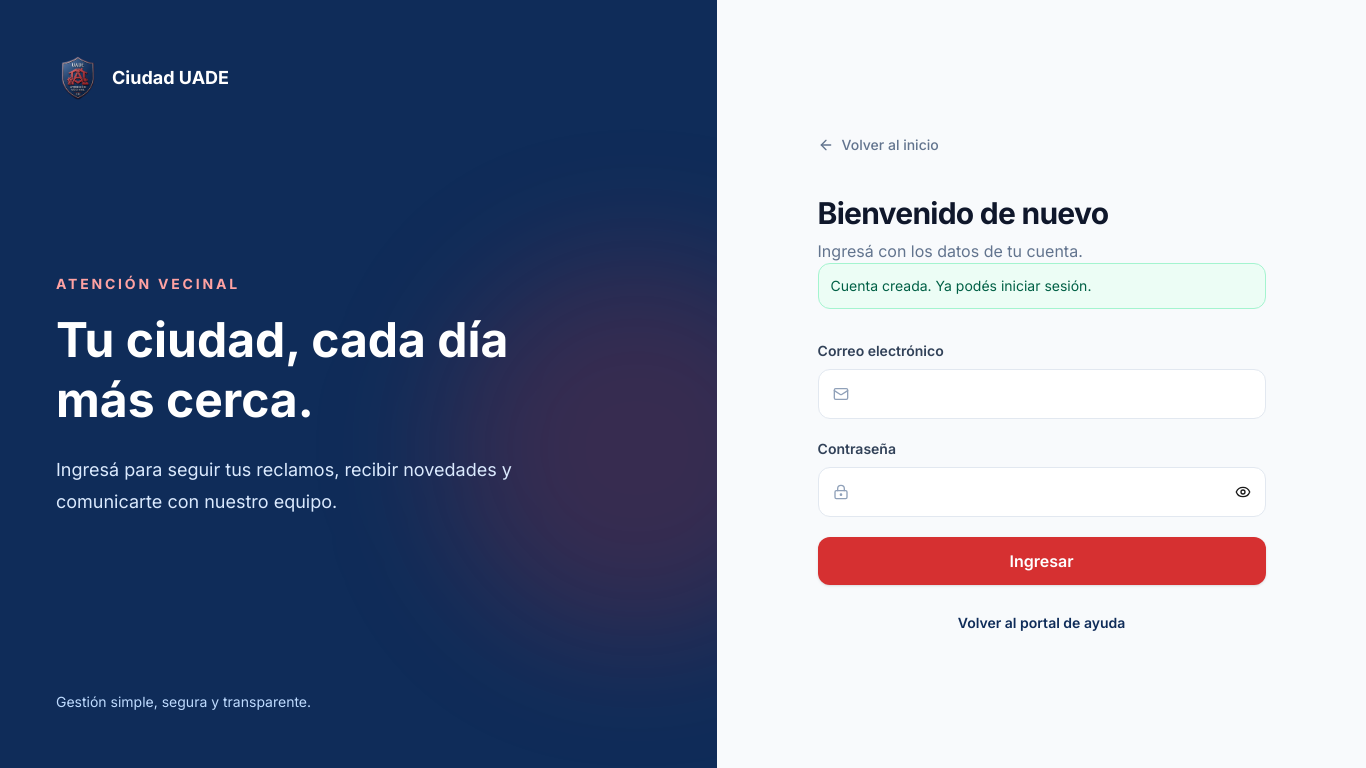
Test: LoginPage › vuelve a la ruta protegida original y muestra el mensaje recibido
Expected: the text "Cuenta creada. Ya podés iniciar sesión." is shown, [818,263,1266,309]
Type "a@b.c" into the field labelled "Correo electrónico" at (1056, 394), box [861,370,1251,418]
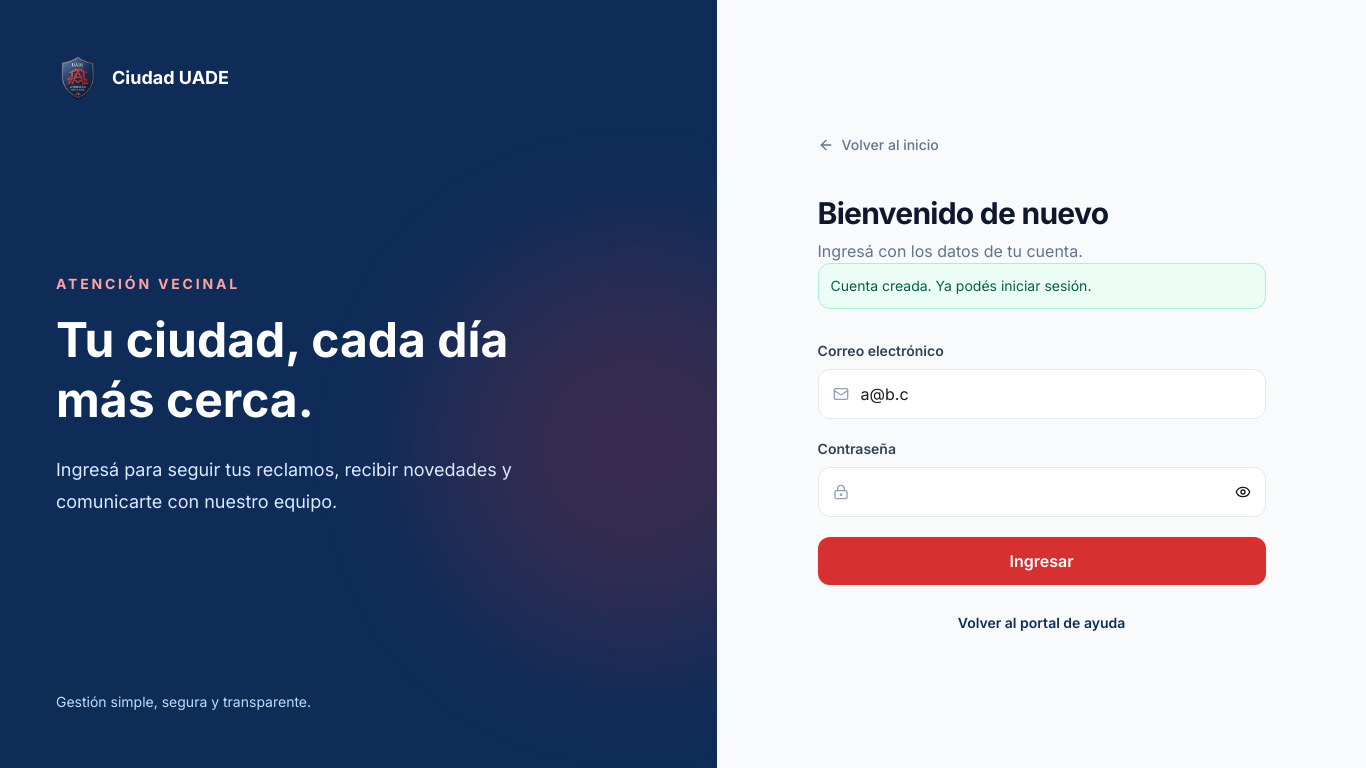
Type "secreta" into the password field labelled "Contraseña" at (1042, 492), box [861,468,1223,516]
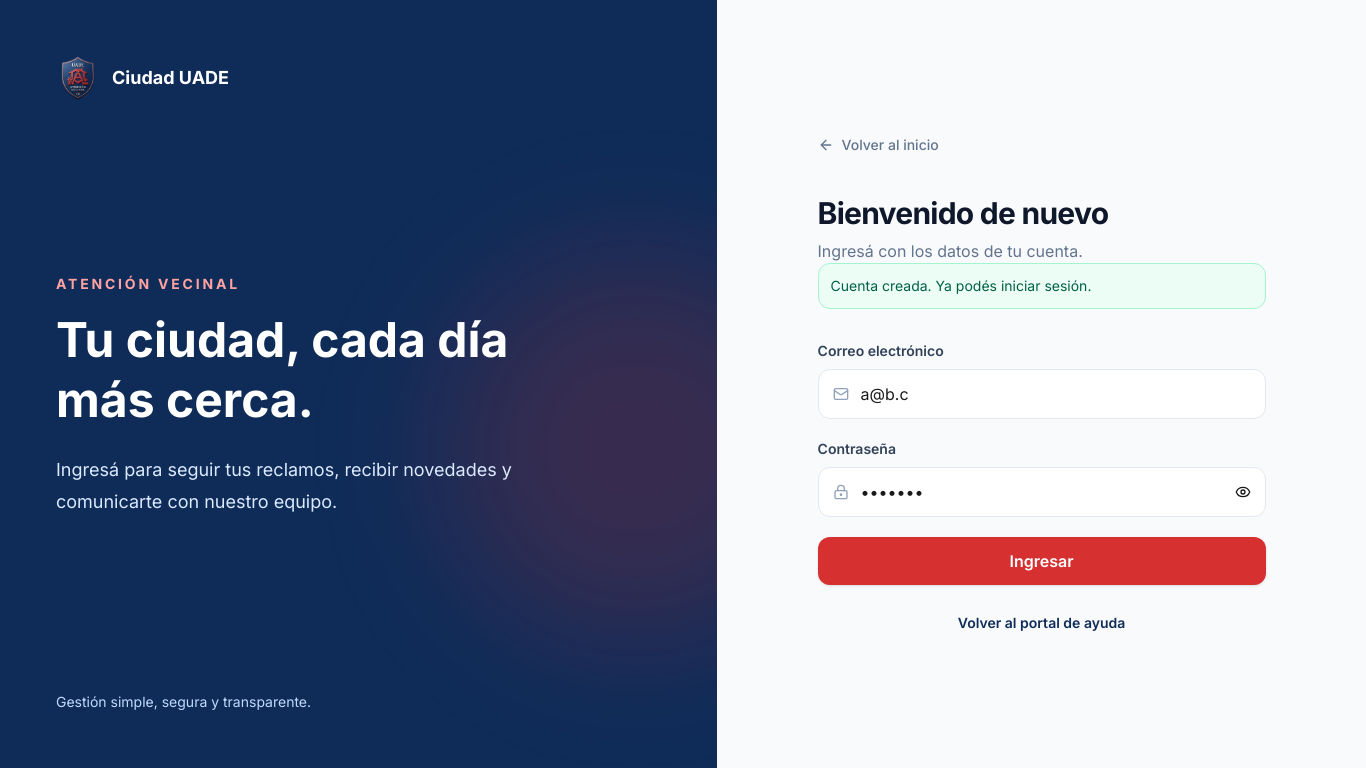
Click the button "Ingresar" at (1042, 561), box [818,537,1266,585]
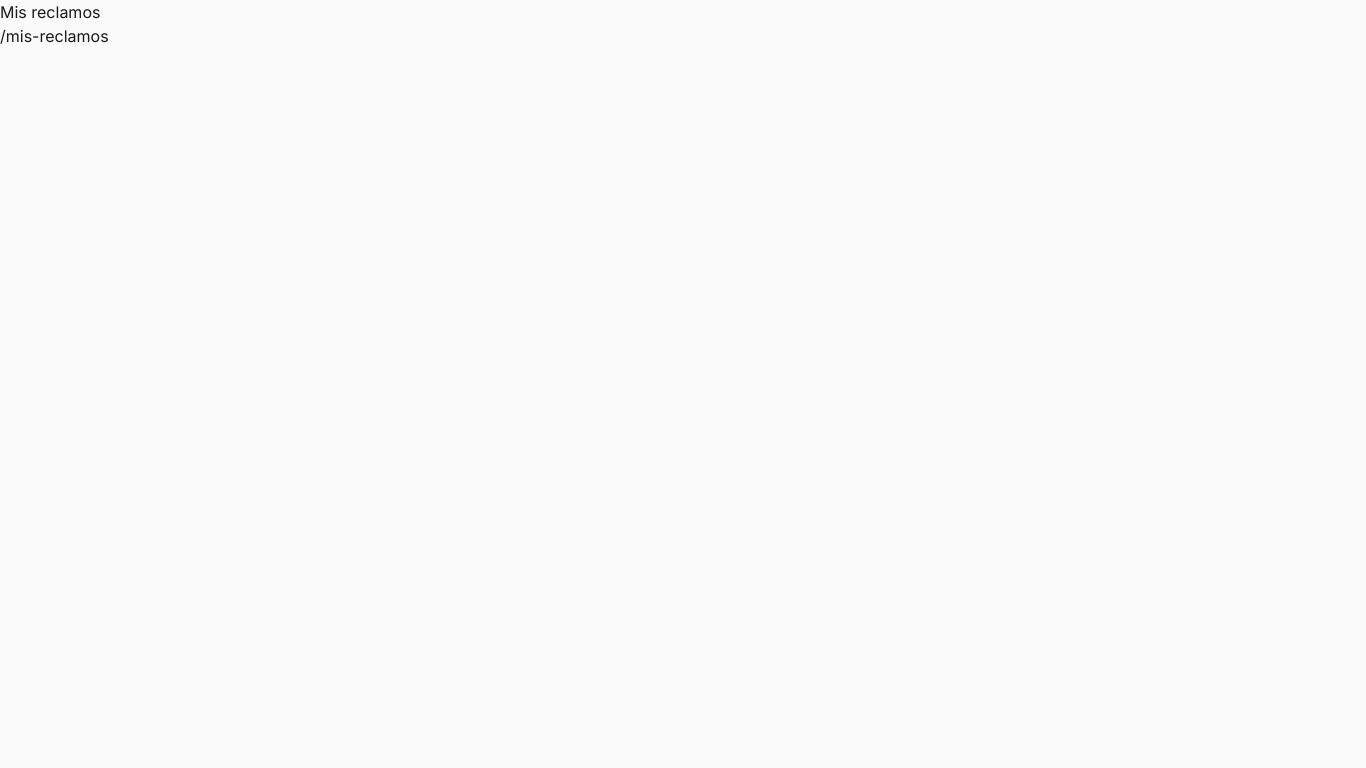
Result: the text "Mis reclamos" is shown at [0,2,100,22]
